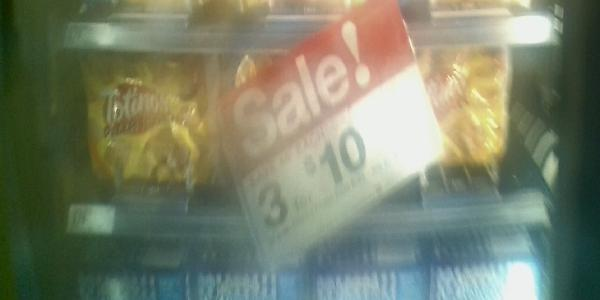icecream: (230, 52, 404, 206), (77, 53, 229, 196), (393, 46, 515, 187)
